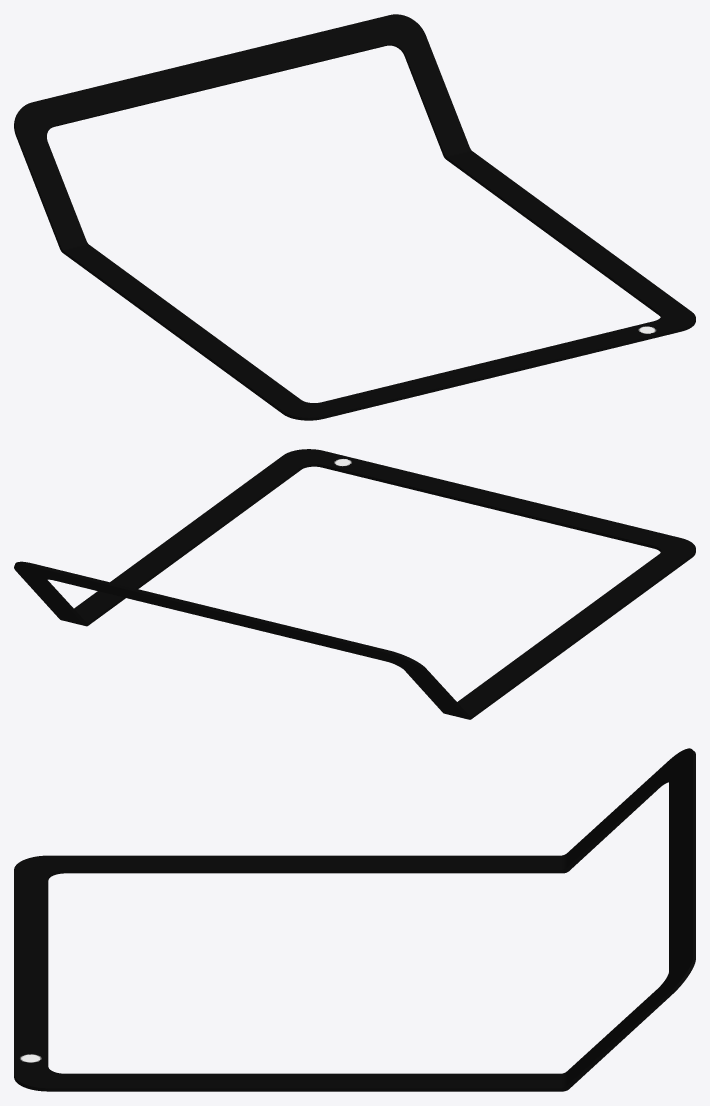
Rendered from T5_border_XE_raised.glb.
The picture shows the model from 3 angles, top to bottom: view 1: azimuth 30°, elevation 25°; view 2: azimuth 150°, elevation 25°; view 3: azimuth 270°, elevation 25°; orthographic projection. The views are drawn at different scales.
Parts seen in each view (by area): view 1: Border_Raised; view 2: Border_Raised; view 3: Border_Raised.
Boxes of the visible parts, <box> form: Border_Raised: <box>14,14,695,420</box>; Border_Raised: <box>14,449,695,719</box>; Border_Raised: <box>14,748,695,1091</box>.
Size of the model in its own units: 0.8001 by 0.1935 by 0.9913.
1 material, 1 textured.
